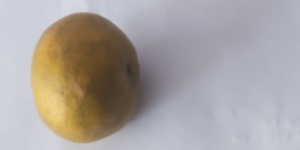BAD: (28, 7, 143, 146)
